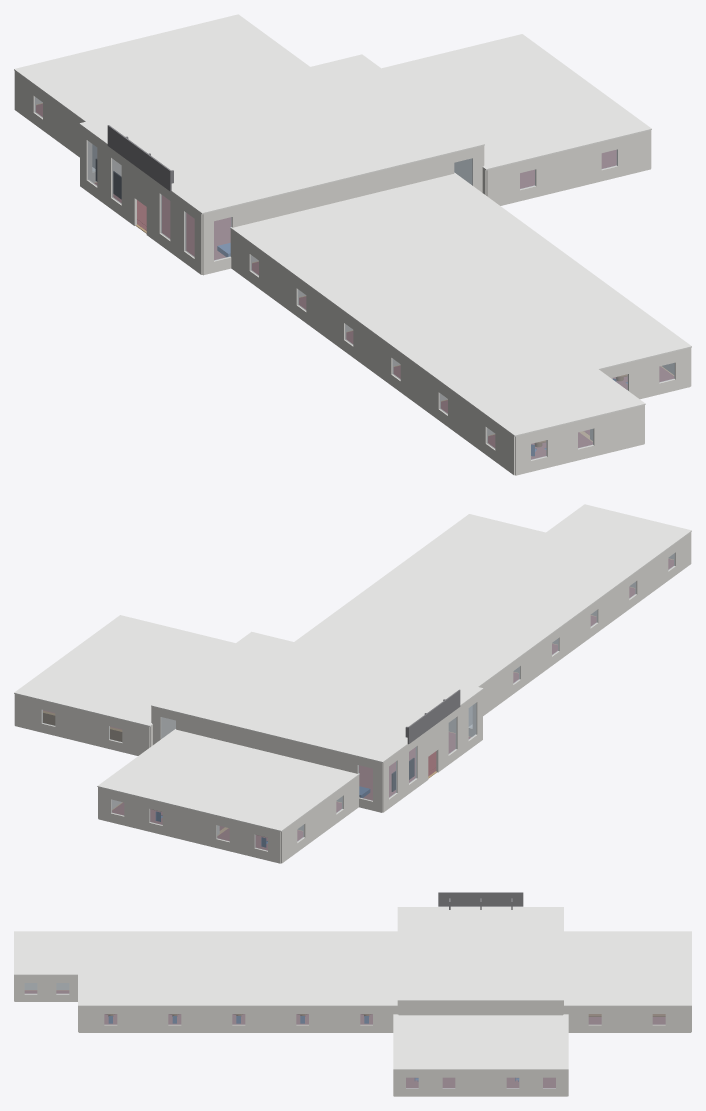
The model's file is mpai.glb.
3 renders of one model, top to bottom at view 1: azimuth 30°, elevation 25°; view 2: azimuth 150°, elevation 25°; view 3: azimuth 270°, elevation 25°, orthographic. The views are drawn at different scales.
Bounding box in the file's own units: 38.35 × 6.78 × 74.2.
